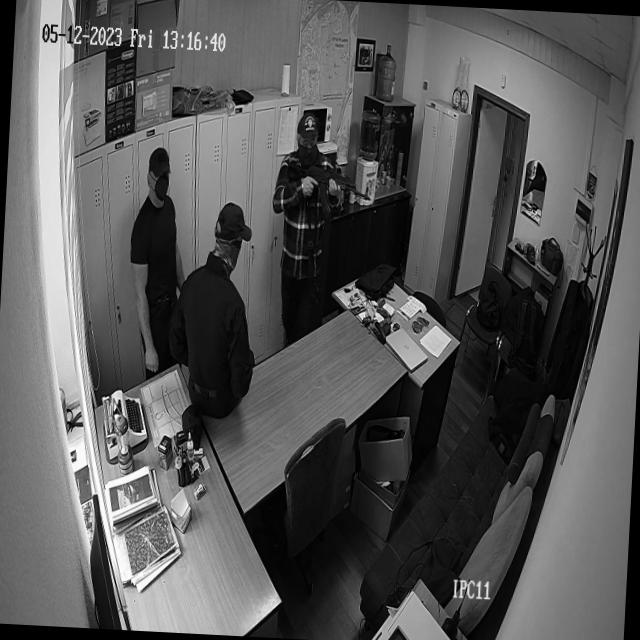gun: (283, 158, 372, 228)
person: (170, 197, 263, 419), (121, 143, 181, 370)
person with a gun: (269, 107, 376, 258)
